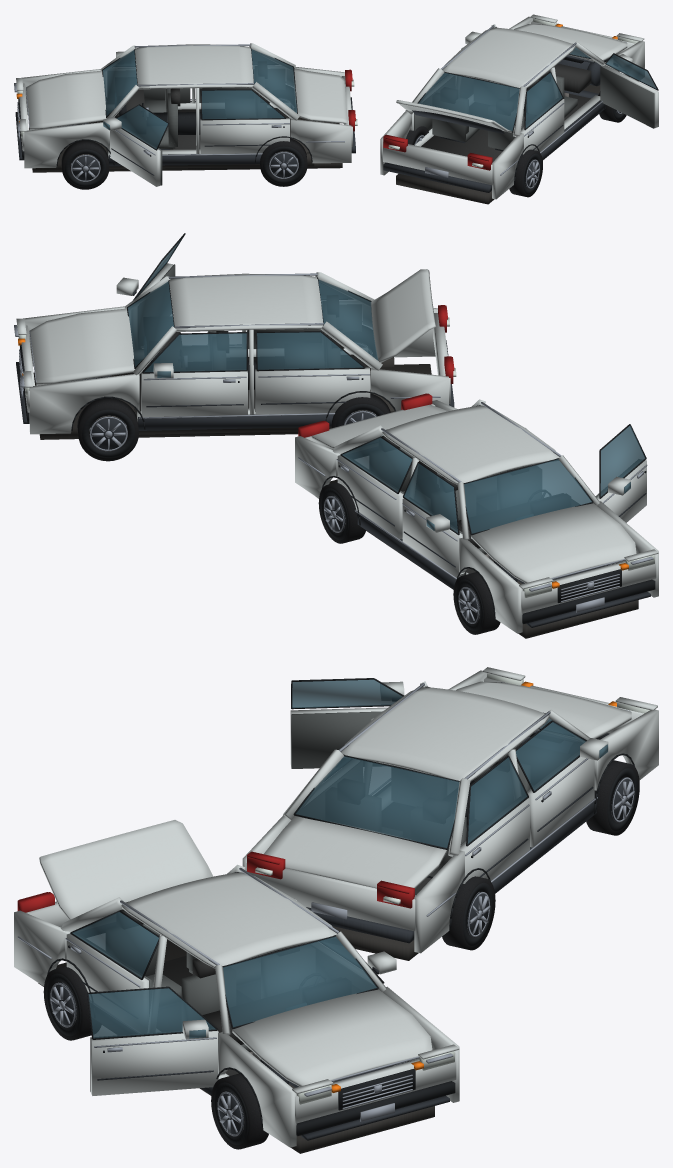
3 renders of one model, top to bottom at view 1: azimuth 30°, elevation 25°; view 2: azimuth 150°, elevation 25°; view 3: azimuth 270°, elevation 25°, orthographic. The views are drawn at different scales.
Parts seen in each view (by area): view 1: Sedan_B__VIS_BODY_RoofSheet, Sedan_A__VIS_BODY_RoofSheet, Sedan_A__VIS_BONNET_OuterSteel, Sedan_B__VIS_BODY_RearGlazing, Sedan_A__VIS_DOOR_RL_Exterior, Sedan_A__VIS_TRUNK_LidOuter, Sedan_A__VIS_BODY_FrontFender_L, Sedan_A__VIS_BODY_RearFender_L, Sedan_B__VIS_BODY_RearFascia, Sedan_B__VIS_DOOR_FR_InteriorCard, Sedan_A__VIS_DOOR_RL_Window_Glass, Sedan_A__VIS_DOOR_FL_Exterior (+49 smaller); view 2: Sedan_A__VIS_BONNET_OuterSteel, Sedan_B__VIS_BODY_RoofSheet, Sedan_A__VIS_BODY_RoofSheet, Sedan_B__VIS_BONNET_OuterSteel, Sedan_A__VIS_BODY_Windshield, Sedan_B__VIS_DOOR_RL_Exterior, Sedan_B__VIS_DOOR_FL_Exterior, Sedan_B__VIS_TRUNK_LidOuter, Sedan_B__VIS_BODY_FrontFender_L, Sedan_B__VIS_DOOR_RL_Window_Glass, Sedan_B__VIS_DOOR_FL_Window_Glass, Sedan_A__VIS_DOOR_RR_Exterior (+39 smaller); view 3: Sedan_B__VIS_BONNET_OuterSteel, Sedan_A__VIS_BODY_RoofSheet, Sedan_B__VIS_BODY_RoofSheet, Sedan_B__VIS_TRUNK_LidOuter, Sedan_A__VIS_BODY_RearGlazing, Sedan_B__VIS_BODY_Windshield, Sedan_A__VIS_TRUNK_LidOuter, Sedan_B__VIS_DOOR_FR_Exterior, Sedan_B__VIS_DOOR_FR_Window_Glass, Sedan_A__VIS_BODY_RearFascia, Sedan_A__VIS_BONNET_OuterSteel, Sedan_B__VIS_BODY_FrontFender_R (+43 smaller).
Part boxes in pixels (x1,y1,x2,y2): Sedan_B__VIS_BODY_RoofSheet: (442,27,575,87); Sedan_A__VIS_BODY_RoofSheet: (135,44,253,89); Sedan_A__VIS_BONNET_OuterSteel: (26,70,106,130); Sedan_B__VIS_BODY_RearGlazing: (418,72,519,130); Sedan_A__VIS_DOOR_RL_Exterior: (200,118,289,154); Sedan_A__VIS_TRUNK_LidOuter: (293,68,347,123); Sedan_A__VIS_BODY_FrontFender_L: (24,122,109,168); Sedan_A__VIS_BODY_RearFender_L: (290,118,351,163); Sedan_B__VIS_BODY_RearFascia: (383,142,492,185); Sedan_B__VIS_DOOR_FR_InteriorCard: (600,66,654,128); Sedan_A__VIS_DOOR_RL_Window_Glass: (202,90,284,119); Sedan_A__VIS_DOOR_FL_Exterior: (110,127,160,186); Sedan_A__VIS_BONNET_OuterSteel: (471,503,636,583); Sedan_B__VIS_BODY_RoofSheet: (169,273,323,331); Sedan_A__VIS_BODY_RoofSheet: (382,405,559,484); Sedan_B__VIS_BONNET_OuterSteel: (30,308,134,385); Sedan_A__VIS_BODY_Windshield: (464,459,591,533); Sedan_B__VIS_DOOR_RL_Exterior: (255,368,370,414); Sedan_B__VIS_DOOR_FL_Exterior: (141,371,247,417); Sedan_B__VIS_TRUNK_LidOuter: (370,269,436,362); Sedan_B__VIS_BODY_FrontFender_L: (29,374,139,434); Sedan_B__VIS_DOOR_RL_Window_Glass: (257,332,363,369); Sedan_B__VIS_DOOR_FL_Window_Glass: (144,333,246,372); Sedan_A__VIS_DOOR_RR_Exterior: (337,455,403,539); Sedan_B__VIS_BONNET_OuterSteel: (232,989,432,1086); Sedan_A__VIS_BODY_RoofSheet: (341,687,548,782); Sedan_B__VIS_BODY_RoofSheet: (121,872,336,968); Sedan_B__VIS_TRUNK_LidOuter: (39,820,213,919); Sedan_A__VIS_BODY_RearGlazing: (295,756,459,847); Sedan_B__VIS_BODY_Windshield: (223,936,377,1027); Sedan_A__VIS_TRUNK_LidOuter: (264,816,446,888); Sedan_B__VIS_DOOR_FR_Exterior: (91,1030,218,1095); Sedan_B__VIS_DOOR_FR_Window_Glass: (88,988,215,1038); Sedan_A__VIS_BODY_RearFascia: (246,863,415,931); Sedan_A__VIS_BONNET_OuterSteel: (455,681,631,740); Sedan_B__VIS_BODY_FrontFender_R: (218,1032,296,1147).
Bounding box in the file's own units: 9.17 × 1.5 × 5.88.
13 materials, 13 textured.
